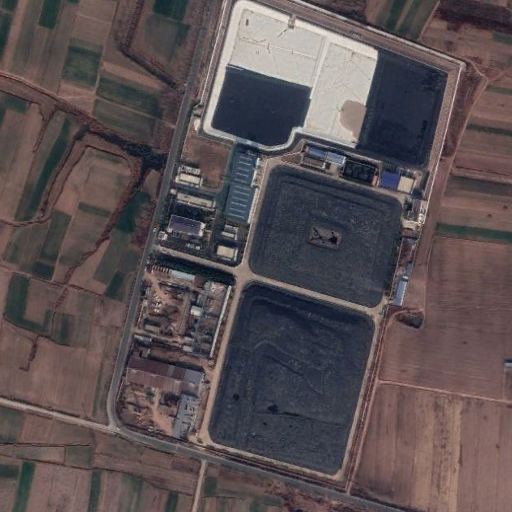lf: (195, 3, 452, 170), (207, 275, 378, 481), (246, 165, 405, 306)
